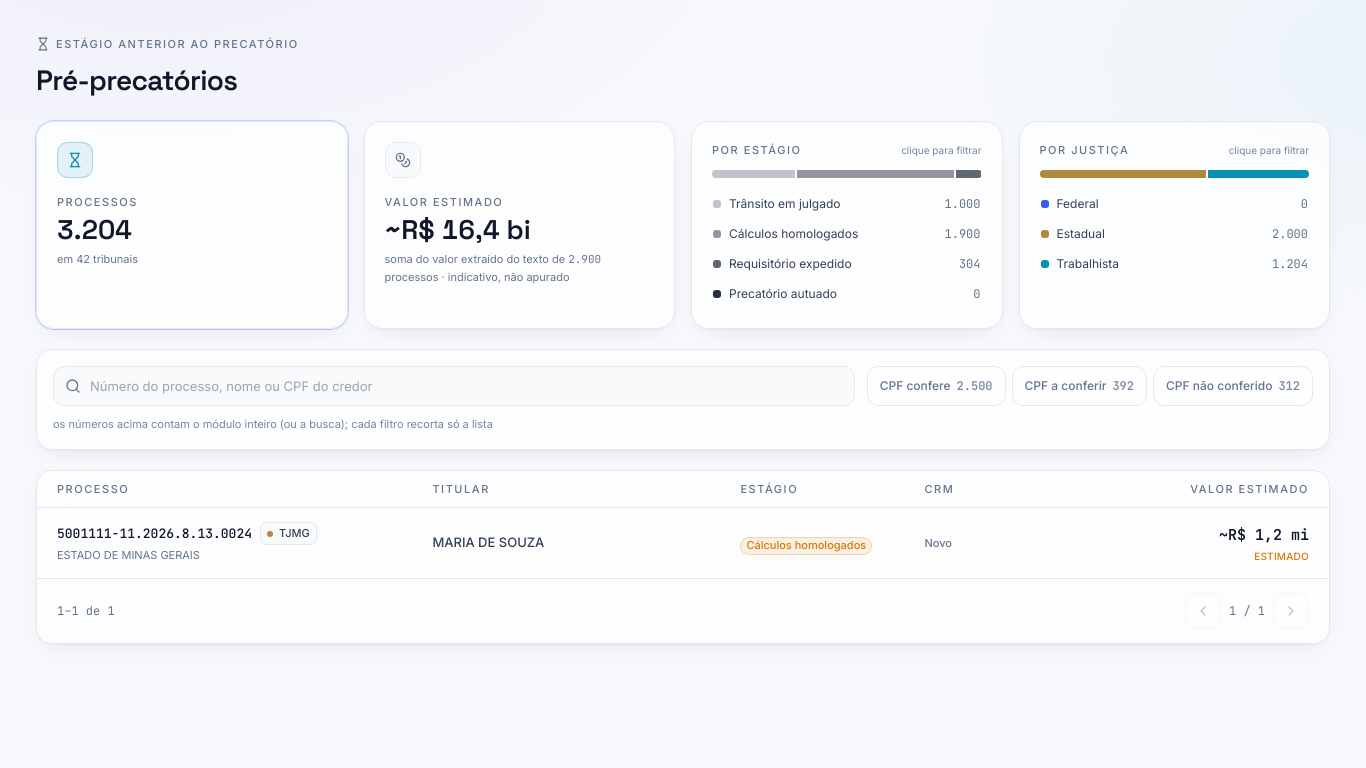
Scenario: Pré-precatórios — estados › vazio com filtro ligado explica e oferece limpar
The image size is (1366, 768).
Expected: the text "5001111-11.2026.8.13.0024" is shown, [57,524,252,543]
Step 1. Click the button "Federal 0" → (1078, 204), box [1032,190,1317,218]
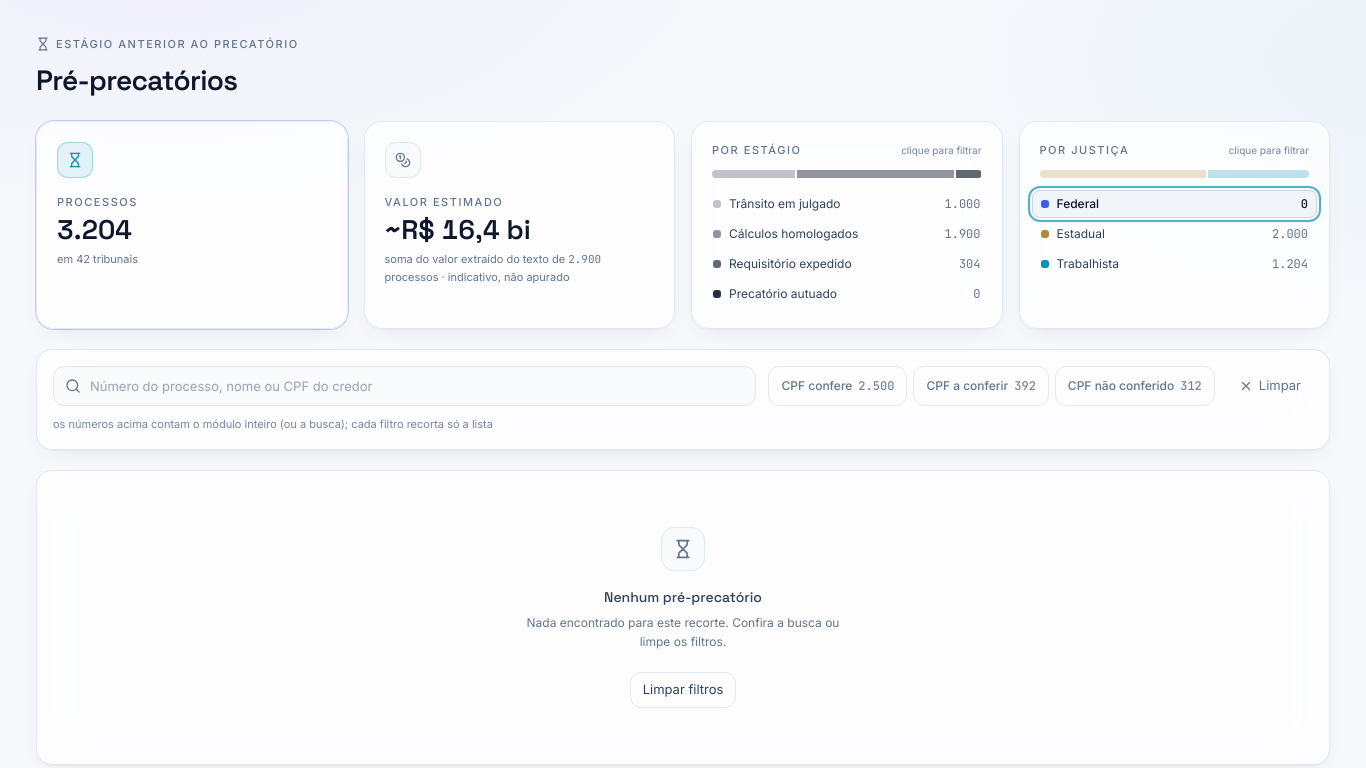
Expected: the text "Nenhum pré-precatório" is shown, [604,586,762,606]
Expected: the text "limpe os filtros" is shown, [526,614,839,649]
Expected: the button "Limpar filtros" is shown, [630,672,736,708]
